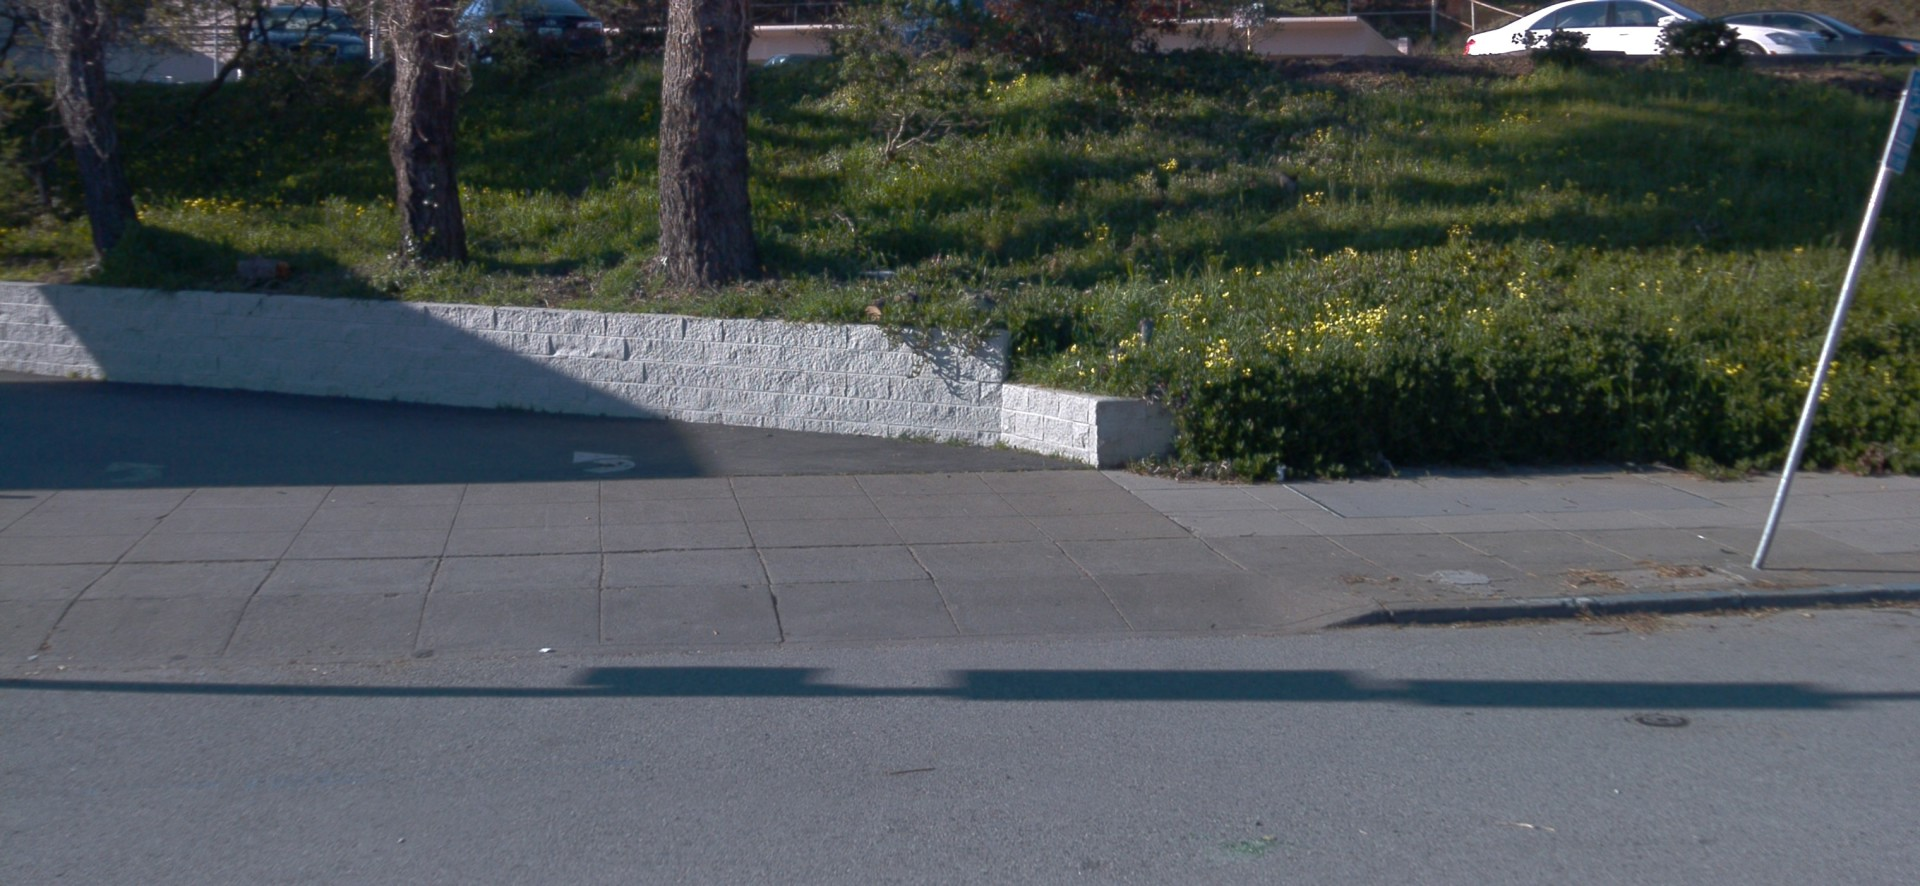TYPE_VEHICLE: (1461, 0, 1831, 59), (860, 0, 1136, 65), (456, 0, 611, 69), (1714, 9, 1920, 60), (242, 3, 373, 72), (759, 52, 827, 69), (236, 66, 244, 82)
